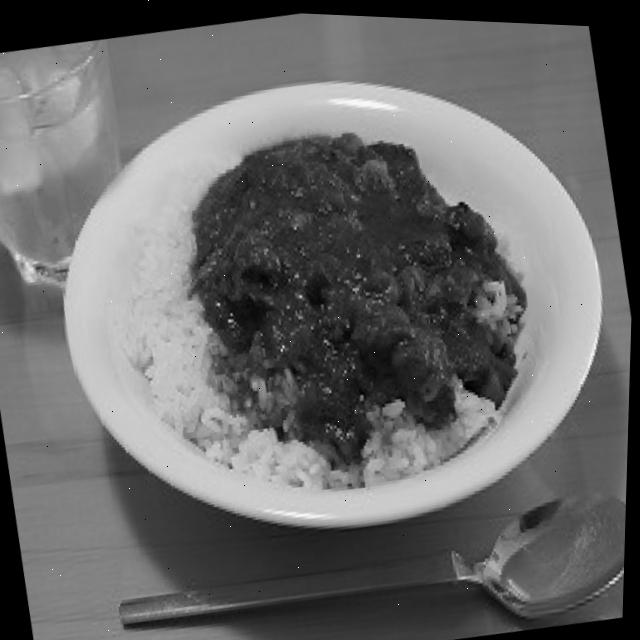牛肉菜式: (24, 18, 640, 577)
